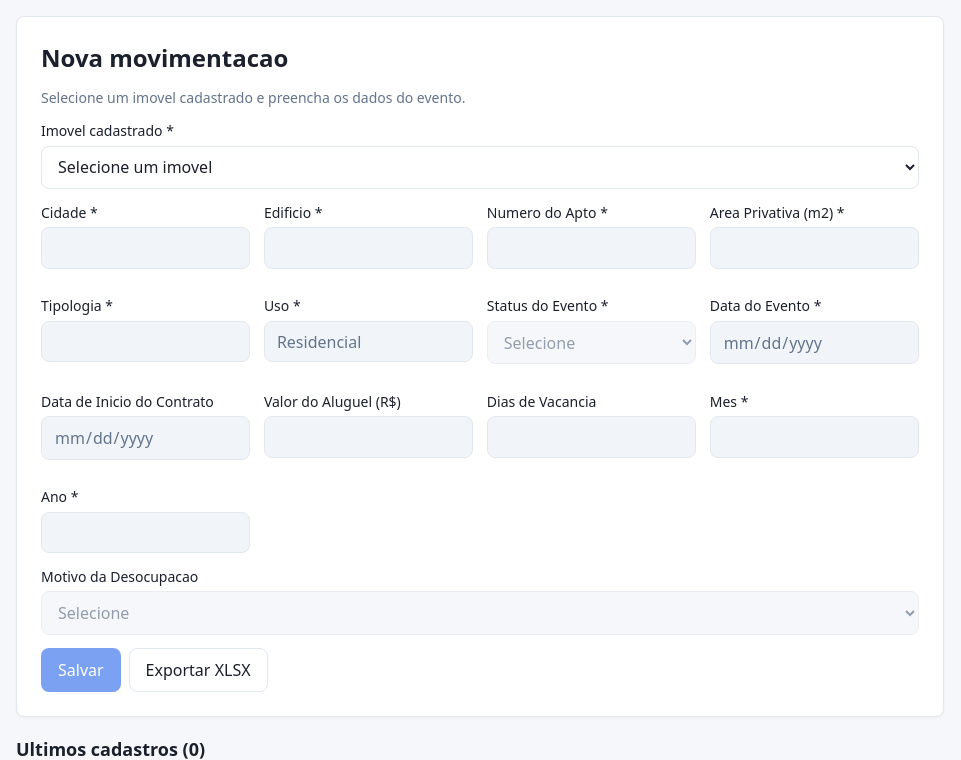
Scenario: CadastroContent › enables only desocupacao fields for Desocupacao status
Select "Florianopolis - Plaza Mediterraneo - apto 326" in the dropdown labelled "Imovel cadastrado *". click: (480,167)
box: [41,146,919,189]
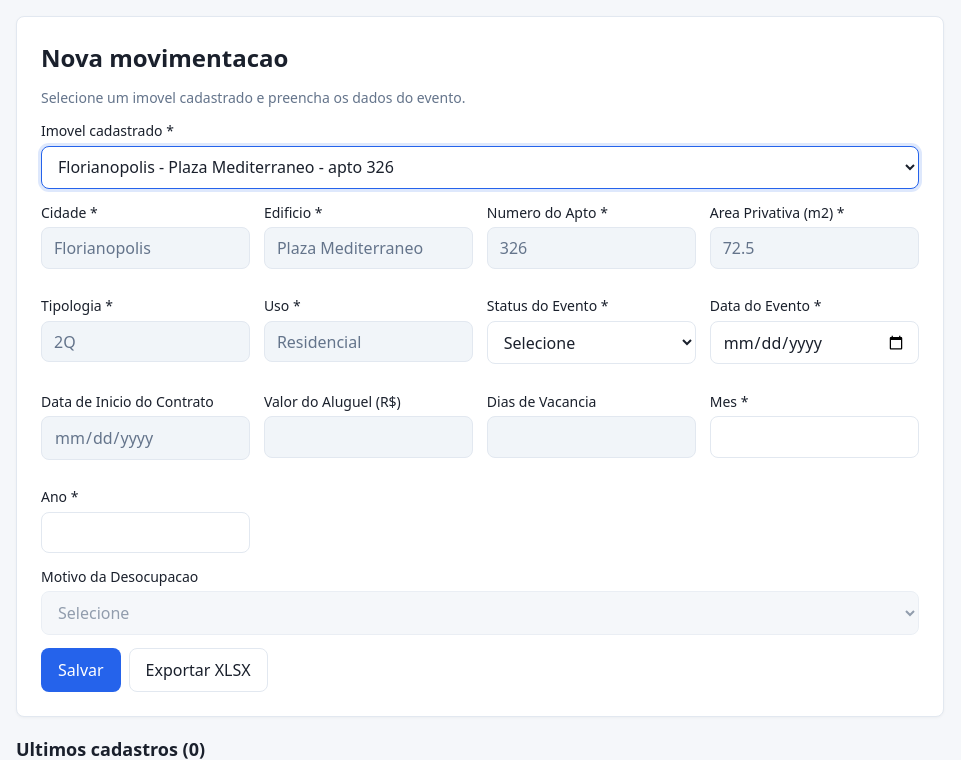
Select "Desocupacao" in the dropdown labelled "Status do Evento *". click: (591,343)
box: [487,321,696,364]
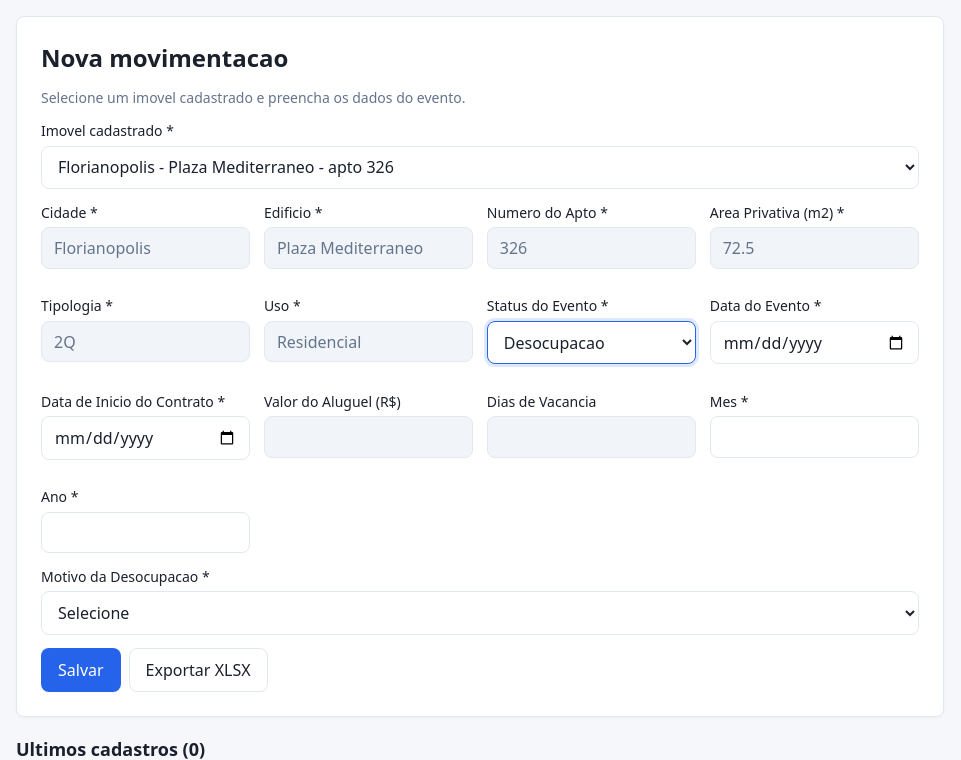
Expected: the number field labelled "Valor do Aluguel (R$)" is disabled, [264,416,473,458]
Result: the date field labelled "Data de Inicio do Contrato *" is enabled at [41,416,250,460]
Result: the dropdown labelled "Motivo da Desocupacao *" is enabled at [41,591,919,635]
